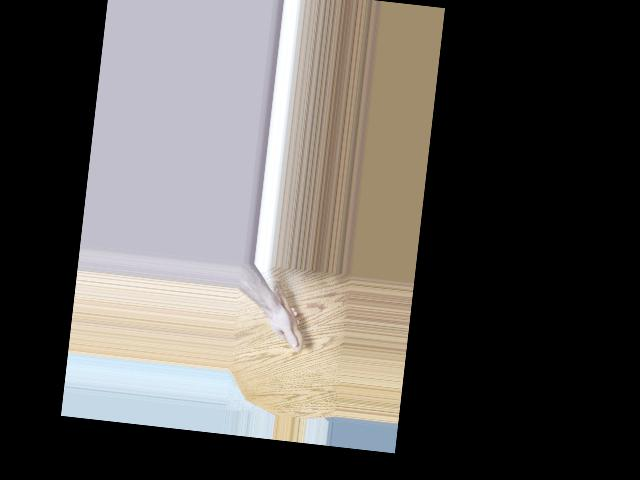sweet_potato: (263, 274, 312, 353)
